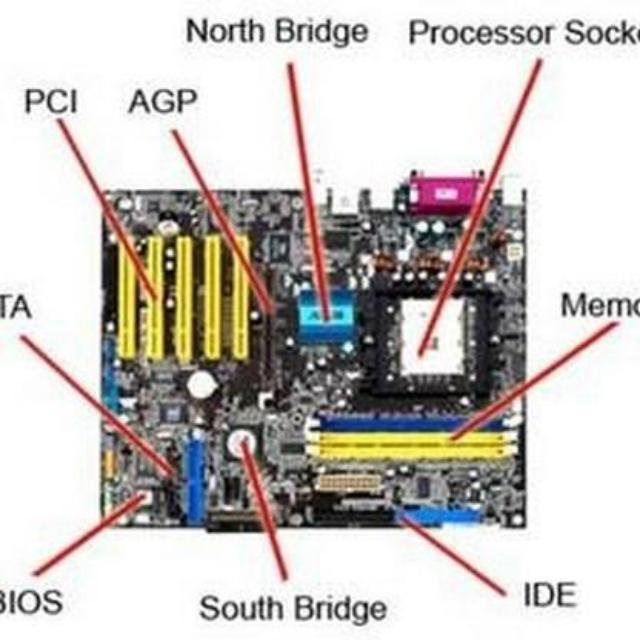Mainboard: (86, 177, 538, 535)
